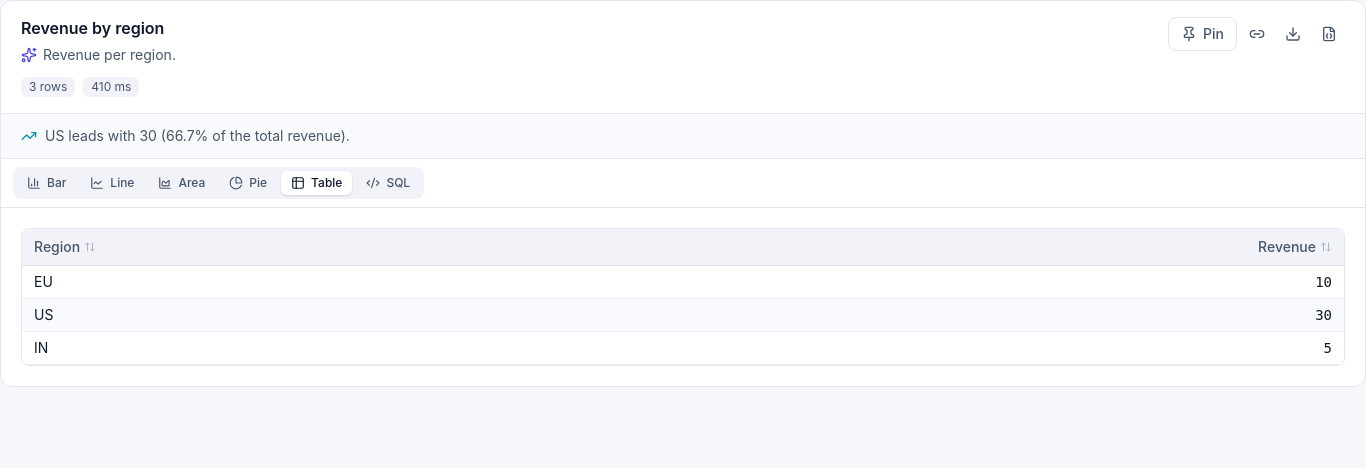
Test: ResultView › switches to SQL and back to the table
Click the tab with test id "view-sql".
click(388, 183)  # box [356,171,420,195]
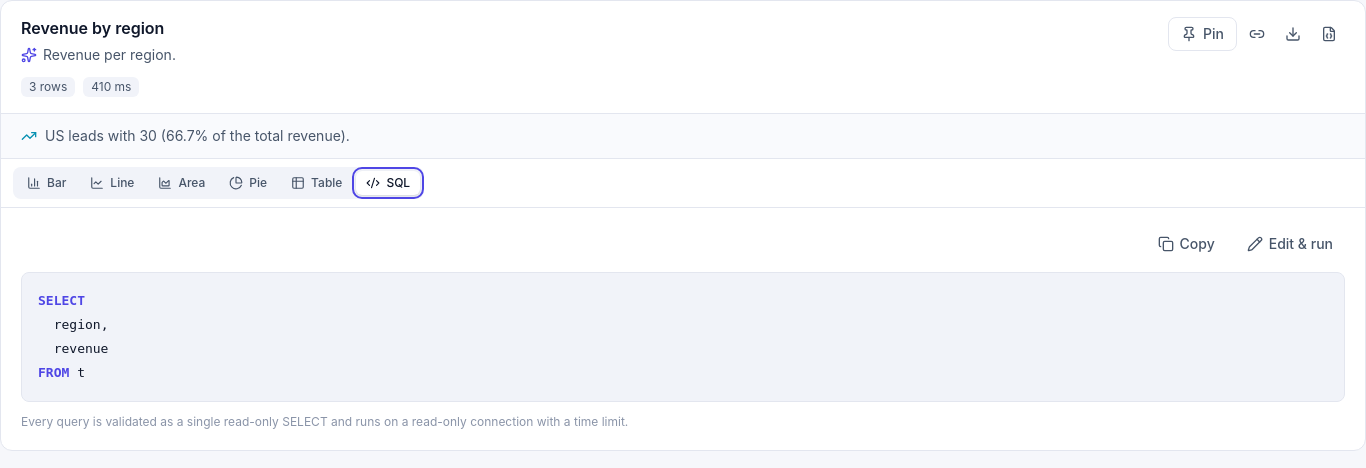
Check: the element with test id "sql-code" shows "FROM t", box [21,272,1345,402]
Click the tab with test id "view-table".
click(317, 183)  # box [281,171,352,195]
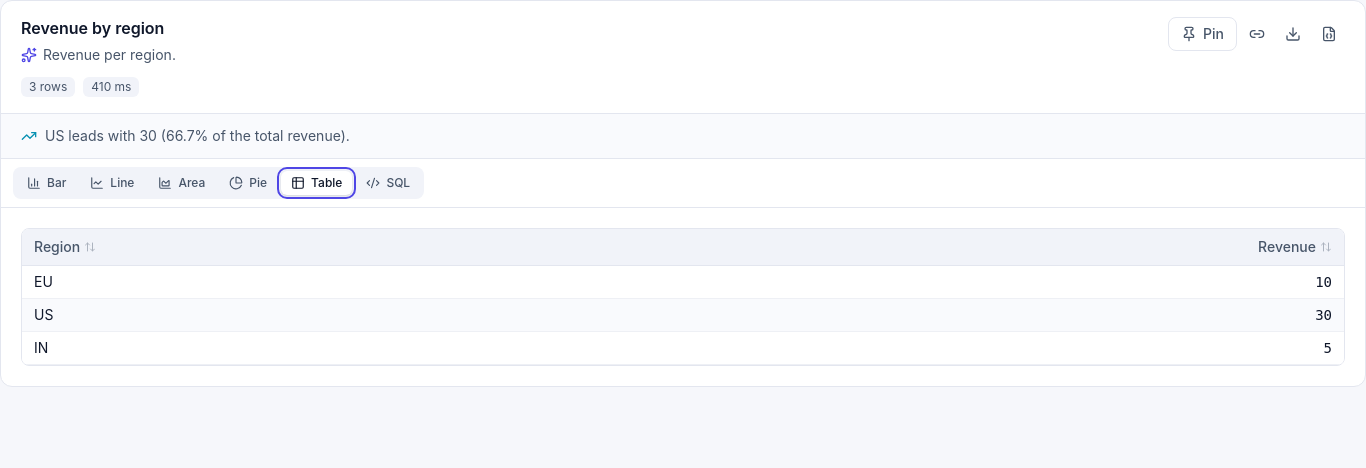
Check: the number of rows is 4, box [22,229,1344,266]; [22,266,1344,298]; [22,298,1344,332]; [22,332,1344,364]
